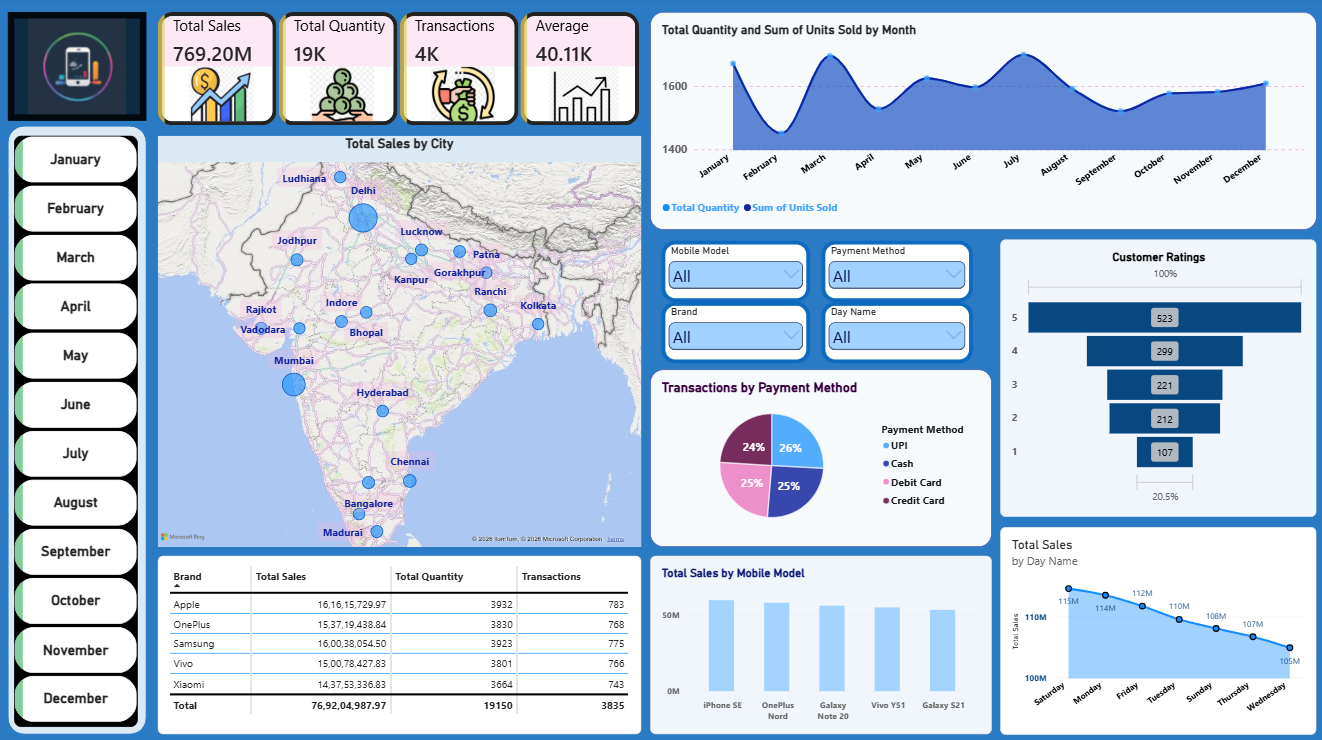

Layout of this report page (visuals, bound fields, positions):
{"tool":"powerbi","page":{"name":"Page 1","canvas":[1920,1080],"ordinal":0},"visuals":[{"type":"shape","box":[12.7,186.4,200.9,881.3],"z":1},{"type":"advancedSlicerVisual","fields":{"Values":["Sales_Data.Date.Variation.Date Hierarchy.Month"]},"box":[21.7,200.9,179.2,856],"z":2},{"type":"cardVisual","fields":{"Data":["Sales_Data.Total Sales","Sales_Data.Total Quantity","Sales_Data.Transactions","Sales_Data.Average"]},"box":[229.8,21.7,700.3,164.7],"z":3},{"type":"map","fields":{"Category":["Sales_Data.City"],"Size":["Sales_Data.Total Sales"]},"box":[229.8,200.9,700.3,595.4],"z":4},{"type":"lineChart","fields":{"Category":["Sales_Data.Date.Variation.Date Hierarchy.Month","Sales_Data.Date.Variation.Date Hierarchy.Day"],"Y":["Sales_Data.Total Quantity","Sum(Sales_Data.Units Sold)"]},"box":[942.8,21.7,964.5,314.9],"z":5},{"type":"clusteredColumnChart","title":"Total Sales by Mobile Model","fields":{"Category":["Sales_Data.Mobile Model"],"Y":["Sales_Data.Total Sales"]},"box":[942.8,808.9,494,258.8],"z":6},{"type":"pieChart","title":"Transactions by Payment Method","fields":{"Category":["Sales_Data.Payment Method"],"Y":["Sales_Data.Transactions"]},"box":[942.8,539.3,494,257],"z":7},{"type":"funnel","title":"Customer Ratings","fields":{"Category":["Sales_Data.Customer Ratings"],"Y":["CountNonNull(Sales_Data.Customer Ratings)"]},"box":[1449.5,351.1,457.8,401.7],"z":8},{"type":"areaChart","fields":{"Category":["Sales_Data.Day Name"],"Y":["Sales_Data.Total Sales"]},"box":[1449.5,767.3,457.8,300.4],"z":9},{"type":"tableEx","fields":{"Values":["Sales_Data.Brand","Sales_Data.Total Sales","Sales_Data.Total Quantity","Sales_Data.Transactions"]},"box":[229.8,808.9,700.3,258.8],"z":10},{"type":"slicer","fields":{"Values":["Sales_Data.Day Name"]},"box":[1190.8,441.6,219,88.7],"z":11},{"type":"slicer","fields":{"Values":["Sales_Data.Brand"]},"box":[959.1,441.6,215.3,88.7],"z":12},{"type":"slicer","fields":{"Values":["Sales_Data.Payment Method"]},"box":[1190.8,352.9,219,88.7],"z":13},{"type":"slicer","fields":{"Values":["Sales_Data.Mobile Model"]},"box":[959.1,352.9,215.3,88.7],"z":14},{"type":"image","box":[12.7,21.7,200.9,157.4],"z":15}]}

Visuals, with their boxes in screenshot pixels (x1, y1, x2, y2), scaled from the page's 1920x1080 canvas onto the 1322x740 screenshot:
shape: bbox(9, 128, 147, 732)
advancedSlicerVisual - Sales_Data.Date.Variation.Date Hierarchy.Month: bbox(15, 138, 138, 724)
cardVisual - Sales_Data.Total Sales x Sales_Data.Total Quantity: bbox(158, 15, 640, 128)
map - Sales_Data.City x Sales_Data.Total Sales: bbox(158, 138, 640, 546)
lineChart - Sales_Data.Date.Variation.Date Hierarchy.Month x Sales_Data.Date.Variation.Date Hierarchy.Day: bbox(649, 15, 1313, 231)
"Total Sales by Mobile Model" clusteredColumnChart: bbox(649, 554, 989, 732)
"Transactions by Payment Method" pieChart: bbox(649, 370, 989, 546)
"Customer Ratings" funnel: bbox(998, 241, 1313, 516)
areaChart - Sales_Data.Day Name x Sales_Data.Total Sales: bbox(998, 526, 1313, 732)
tableEx - Sales_Data.Brand x Sales_Data.Total Sales: bbox(158, 554, 640, 732)
slicer - Sales_Data.Day Name: bbox(820, 303, 971, 363)
slicer - Sales_Data.Brand: bbox(660, 303, 809, 363)
slicer - Sales_Data.Payment Method: bbox(820, 242, 971, 303)
slicer - Sales_Data.Mobile Model: bbox(660, 242, 809, 303)
image: bbox(9, 15, 147, 123)
